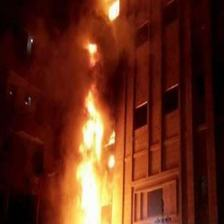fire: (71, 1, 124, 221)
